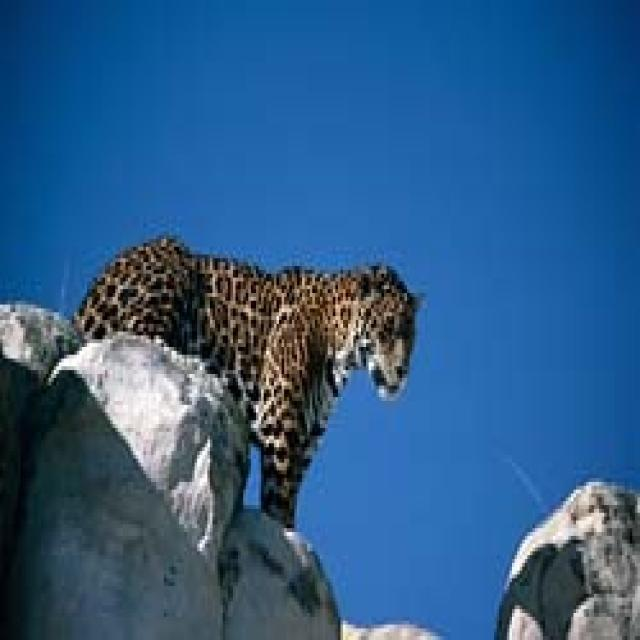Leopard: (54, 216, 428, 517)
